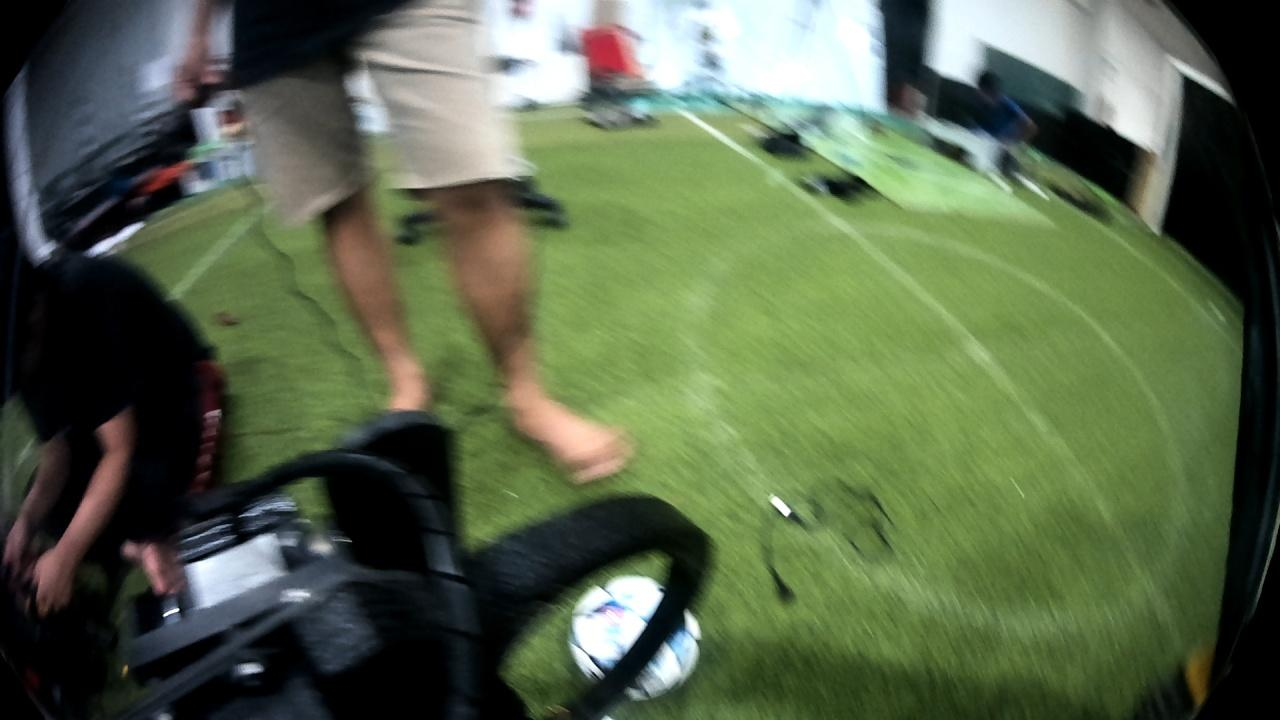ball: (561, 573, 702, 703)
